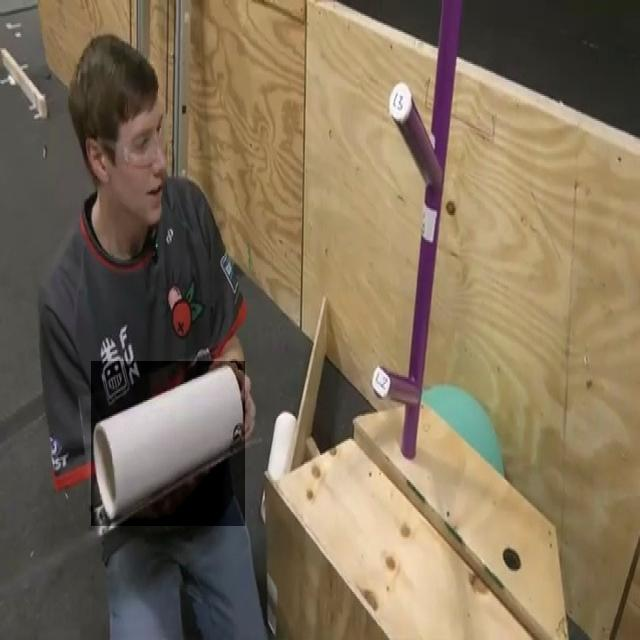Coral: (91, 361, 245, 526)
